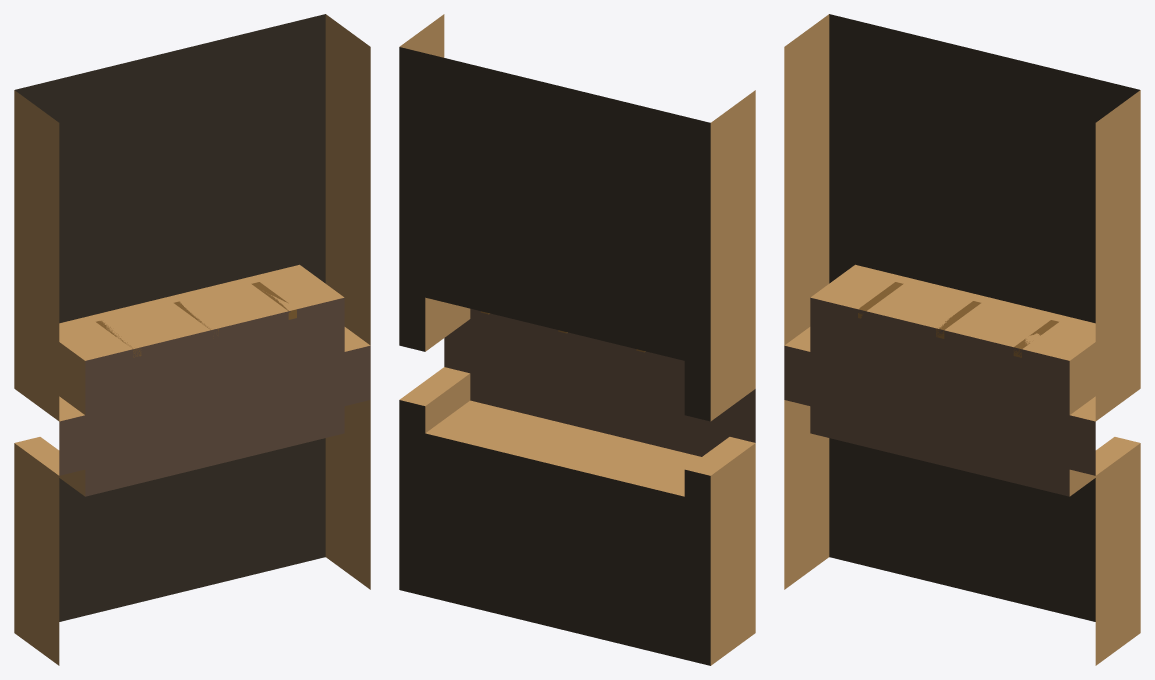
File: Raum1.fbx
The picture shows the model from 3 angles, left to right: view 1: azimuth 30°, elevation 25°; view 2: azimuth 150°, elevation 25°; view 3: azimuth 330°, elevation 25°; orthographic projection.
Parts seen in each view (by area): view 1: Plane.005; view 2: Plane.005; view 3: Plane.005.
Boxes of the visible parts, x1=… form: Plane.005: x1=14, y1=14, x2=370, y2=665; Plane.005: x1=399, y1=14, x2=755, y2=665; Plane.005: x1=784, y1=14, x2=1140, y2=665.
Bounding box in the file's own units: 2400 × 4000 × 600.
